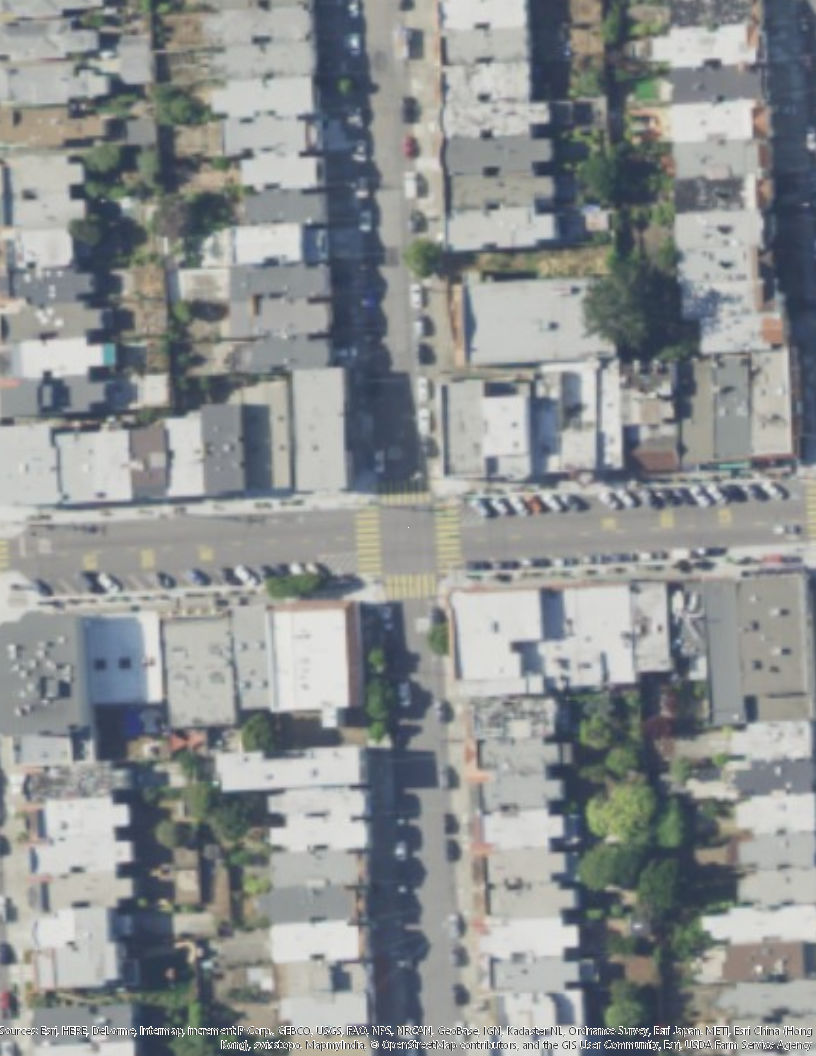zebracross: (351, 505, 386, 574), (438, 495, 463, 568), (380, 473, 432, 507), (380, 570, 441, 598)
